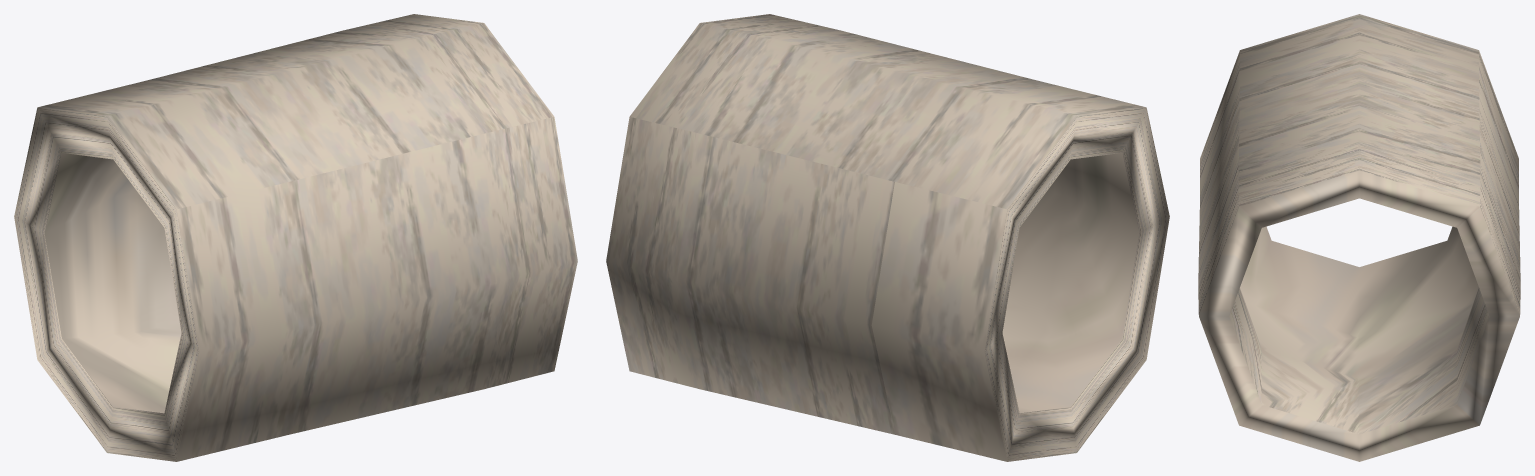
File: BottleTreeLog.fbx
3 views of the same model, side by side, from view 1: azimuth 30°, elevation 25°; view 2: azimuth 150°, elevation 25°; view 3: azimuth 270°, elevation 25° (orthographic). The views are drawn at different scales.
Visible parts, largest first — view 1: WoodStack; view 2: WoodStack; view 3: WoodStack.
Part boxes in pixels (bbox=[...]): WoodStack: bbox=[14, 14, 577, 461]; WoodStack: bbox=[606, 14, 1169, 461]; WoodStack: bbox=[1198, 14, 1520, 461].
Size of the model in its own units: 0.8412 by 0.7261 by 0.7261.
